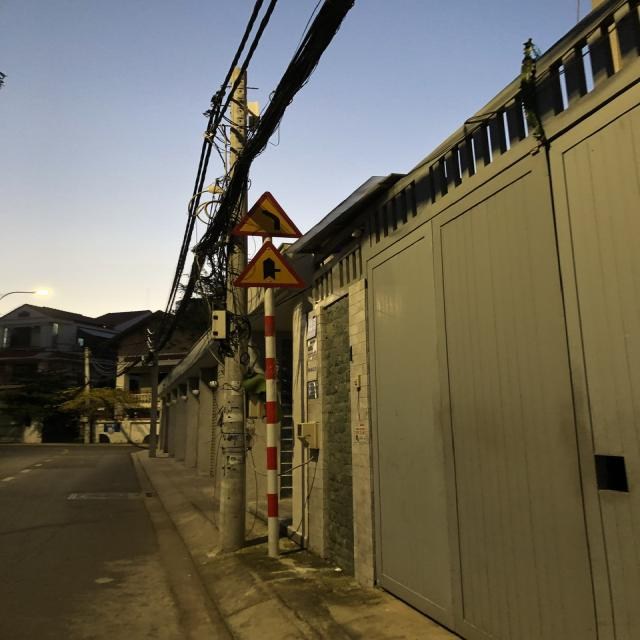Bien bao cho ngoat nguy hiem: (222, 188, 310, 238)
Bien bao giao nhau voi duong khong uu tien: (228, 241, 306, 290)
